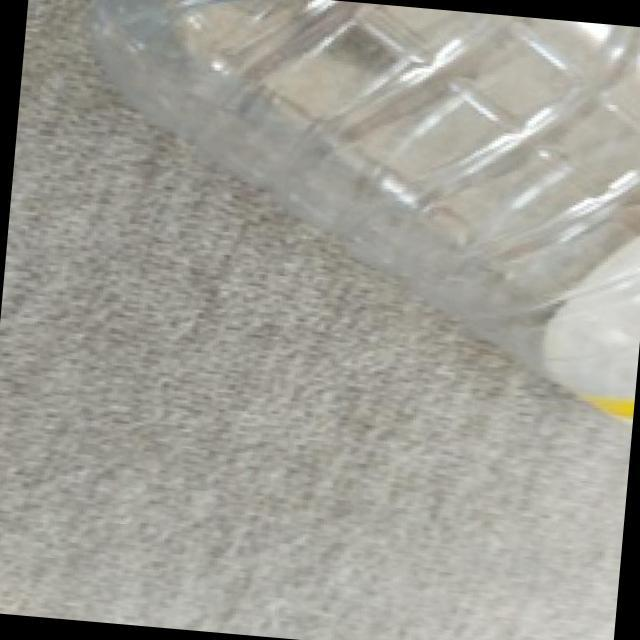good: (51, 0, 640, 480)
